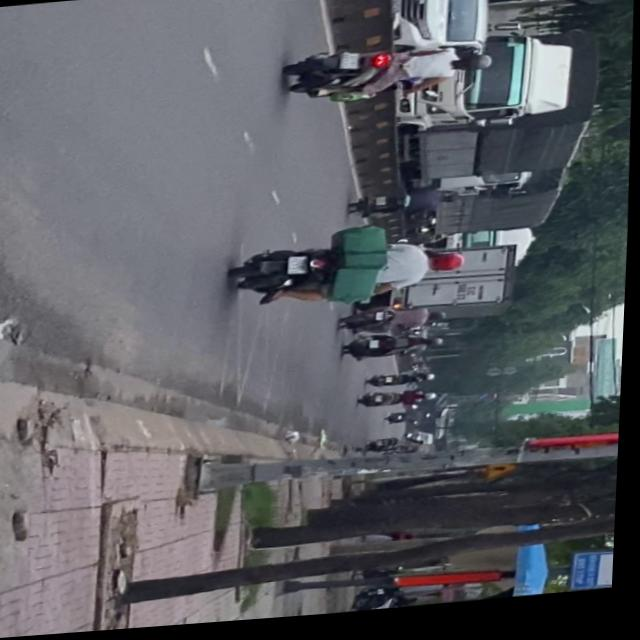helmet: (433, 256, 469, 279), (459, 57, 495, 78)
licenseplate: (230, 222, 472, 316), (284, 41, 497, 109)
nohelmet: (290, 259, 310, 277), (342, 56, 361, 73)
